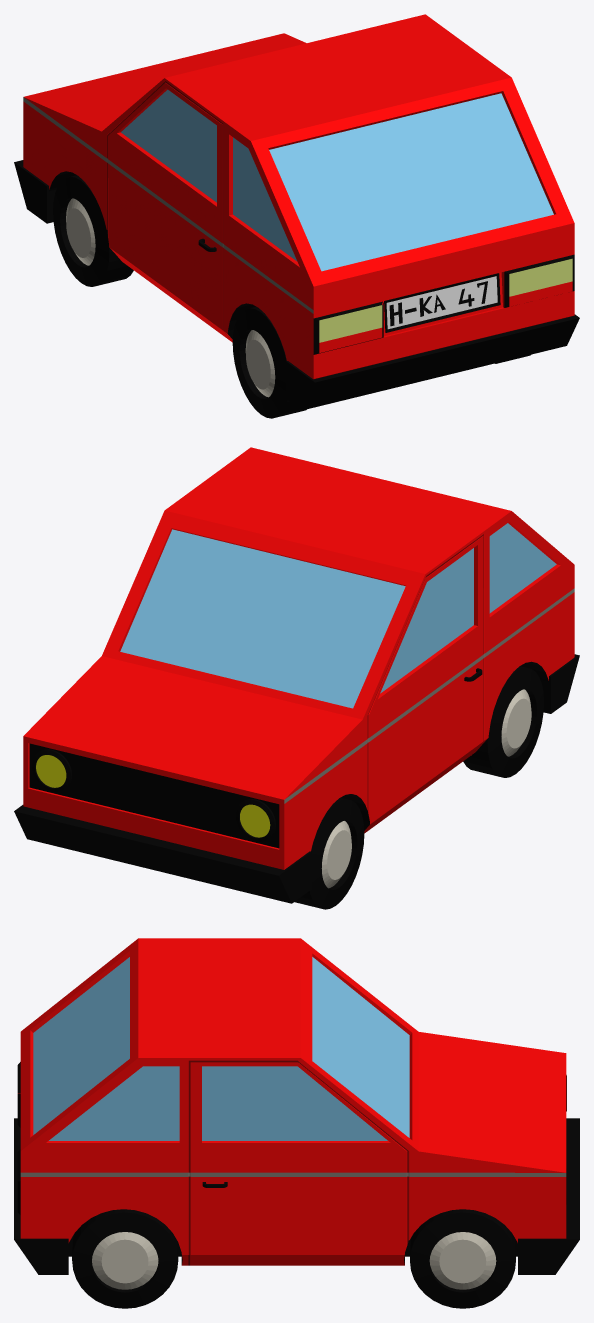
File: golf.obj
3 views of the same model, one above another, from view 1: azimuth 30°, elevation 25°; view 2: azimuth 150°, elevation 25°; view 3: azimuth 270°, elevation 25° (orthographic). The views are drawn at different scales.
Parts seen in each view (by area): view 1: Cube.001; view 2: Cube.001; view 3: Cube.001.
Part boxes in pixels (<box>): Cube.001: <box>14,14,579,418</box>; Cube.001: <box>14,447,579,909</box>; Cube.001: <box>14,938,579,1308</box>.
Size of the model in its own units: 1.64 by 1.53 by 3.11.
Materials: 1 (1 with a texture image).
